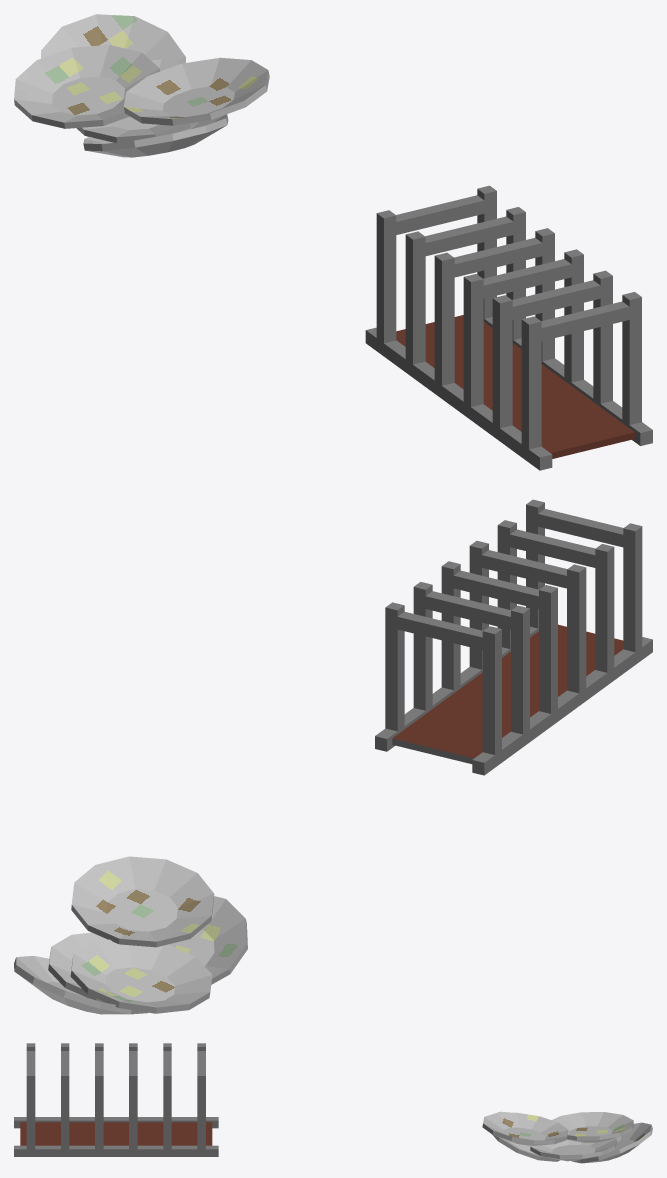
Rendered from dishes_dirty.gltf.
3 views of the same model, one above another, from view 1: azimuth 30°, elevation 25°; view 2: azimuth 150°, elevation 25°; view 3: azimuth 270°, elevation 25° (orthographic). The views are drawn at different scales.
Visible parts, largest first — view 1: cuboid (×20), cylinder (×5), base; view 2: cuboid (×20), cylinder (×5), base; view 3: cuboid (×9), cylinder (×5), base.
Part boxes in pixels (x1,y1,x2,y2): cuboid (×20): (365,185,652,470); cylinder (×5): (14,14,269,157); base: (396,315,634,458); cuboid (×20): (375,499,652,775); cylinder (×5): (14,856,247,1014); base: (392,624,623,763); cuboid (×9): (14,1051,218,1156); cylinder (×5): (482,1111,652,1163); base: (20,1122,212,1145).
Size of the model in its own units: 0.0901 by 0.0759 by 0.4682.
Materials: 2 (2 with a texture image).
